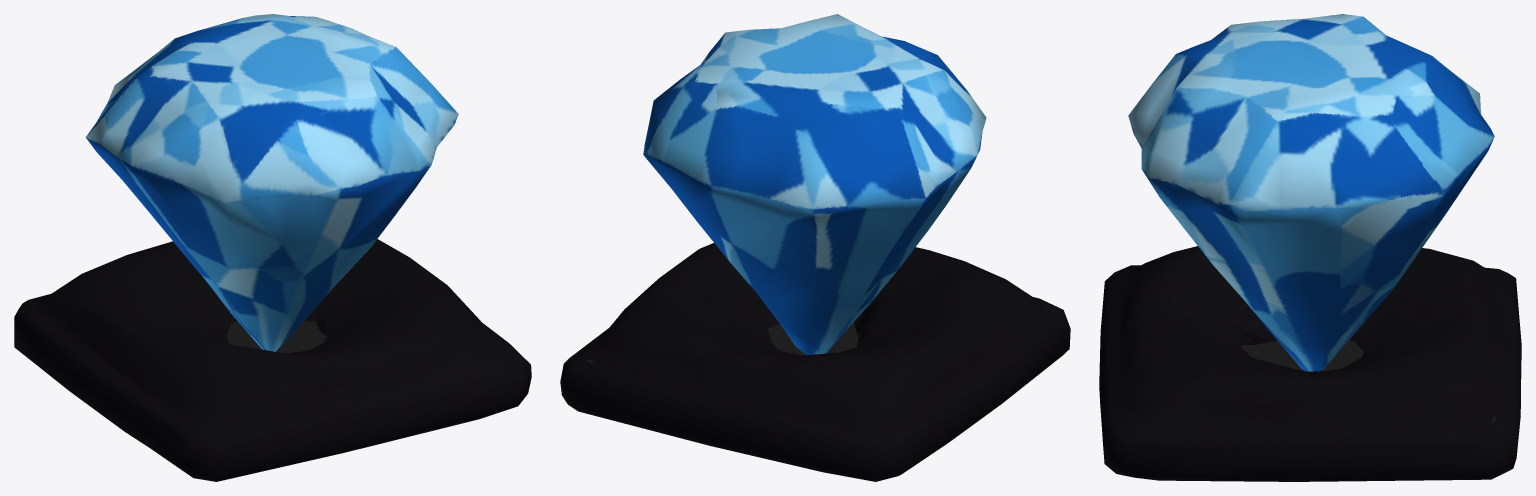
The model's file is loot-diamond.glb.
3 views of the same model, side by side, from view 1: azimuth 30°, elevation 25°; view 2: azimuth 150°, elevation 25°; view 3: azimuth 270°, elevation 25° (orthographic). The views are drawn at different scales.
Visible parts, largest first — view 1: geometry_0.001; view 2: geometry_0.001; view 3: geometry_0.001.
Part boxes in pixels (x1,y1,x2,y2): geometry_0.001: (14,14,531,481); geometry_0.001: (560,14,1070,481); geometry_0.001: (1099,14,1521,481).
Size of the model in its own units: 0.9982 by 0.8766 by 0.9966.
1 material, 1 textured.
